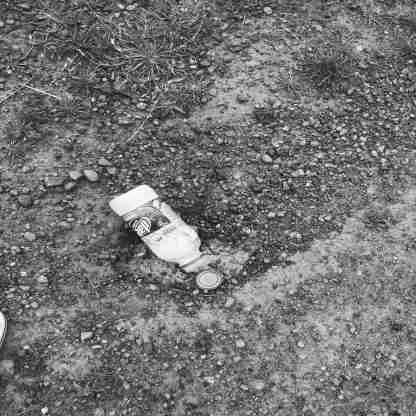plastic: (110, 186, 210, 274)
